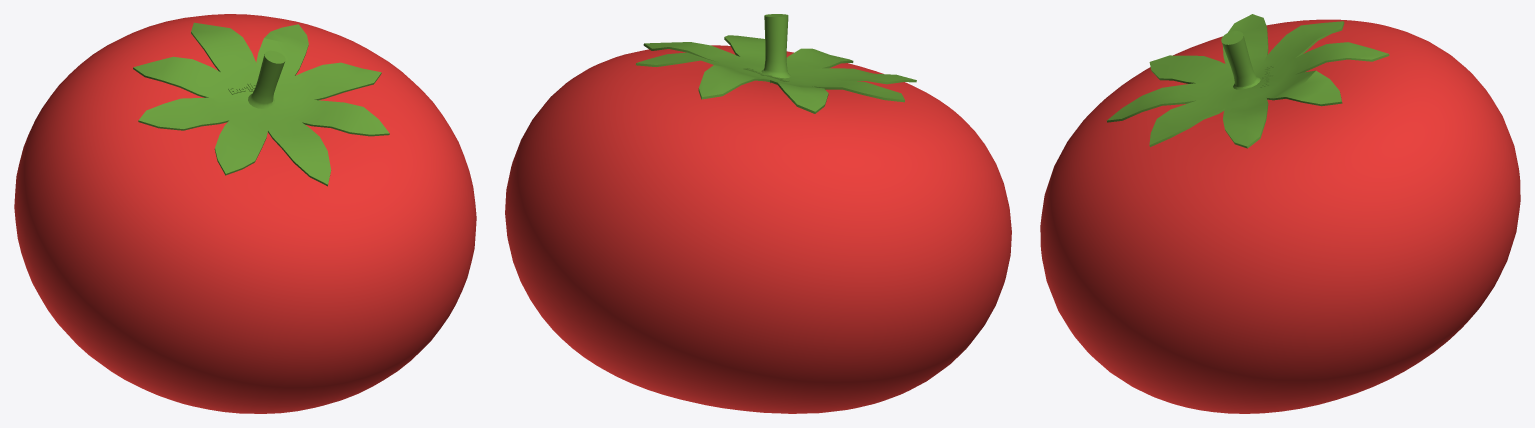
Rendered from tomato.fbx.
3 renders of one model, left to right at view 1: azimuth 30°, elevation 25°; view 2: azimuth 150°, elevation 25°; view 3: azimuth 270°, elevation 25°, orthographic. The views are drawn at different scales.
Parts seen in each view (by area): view 1: Cube.342; view 2: Cube.342; view 3: Cube.342.
Boxes of the visible parts, left/top/right/bottom form: Cube.342: left=14, top=14, right=476, bottom=413; Cube.342: left=505, top=14, right=1011, bottom=413; Cube.342: left=1040, top=14, right=1520, bottom=413.
Bounding box in the file's own units: 234 × 185 × 230.
Materials: 1 (1 with a texture image).
